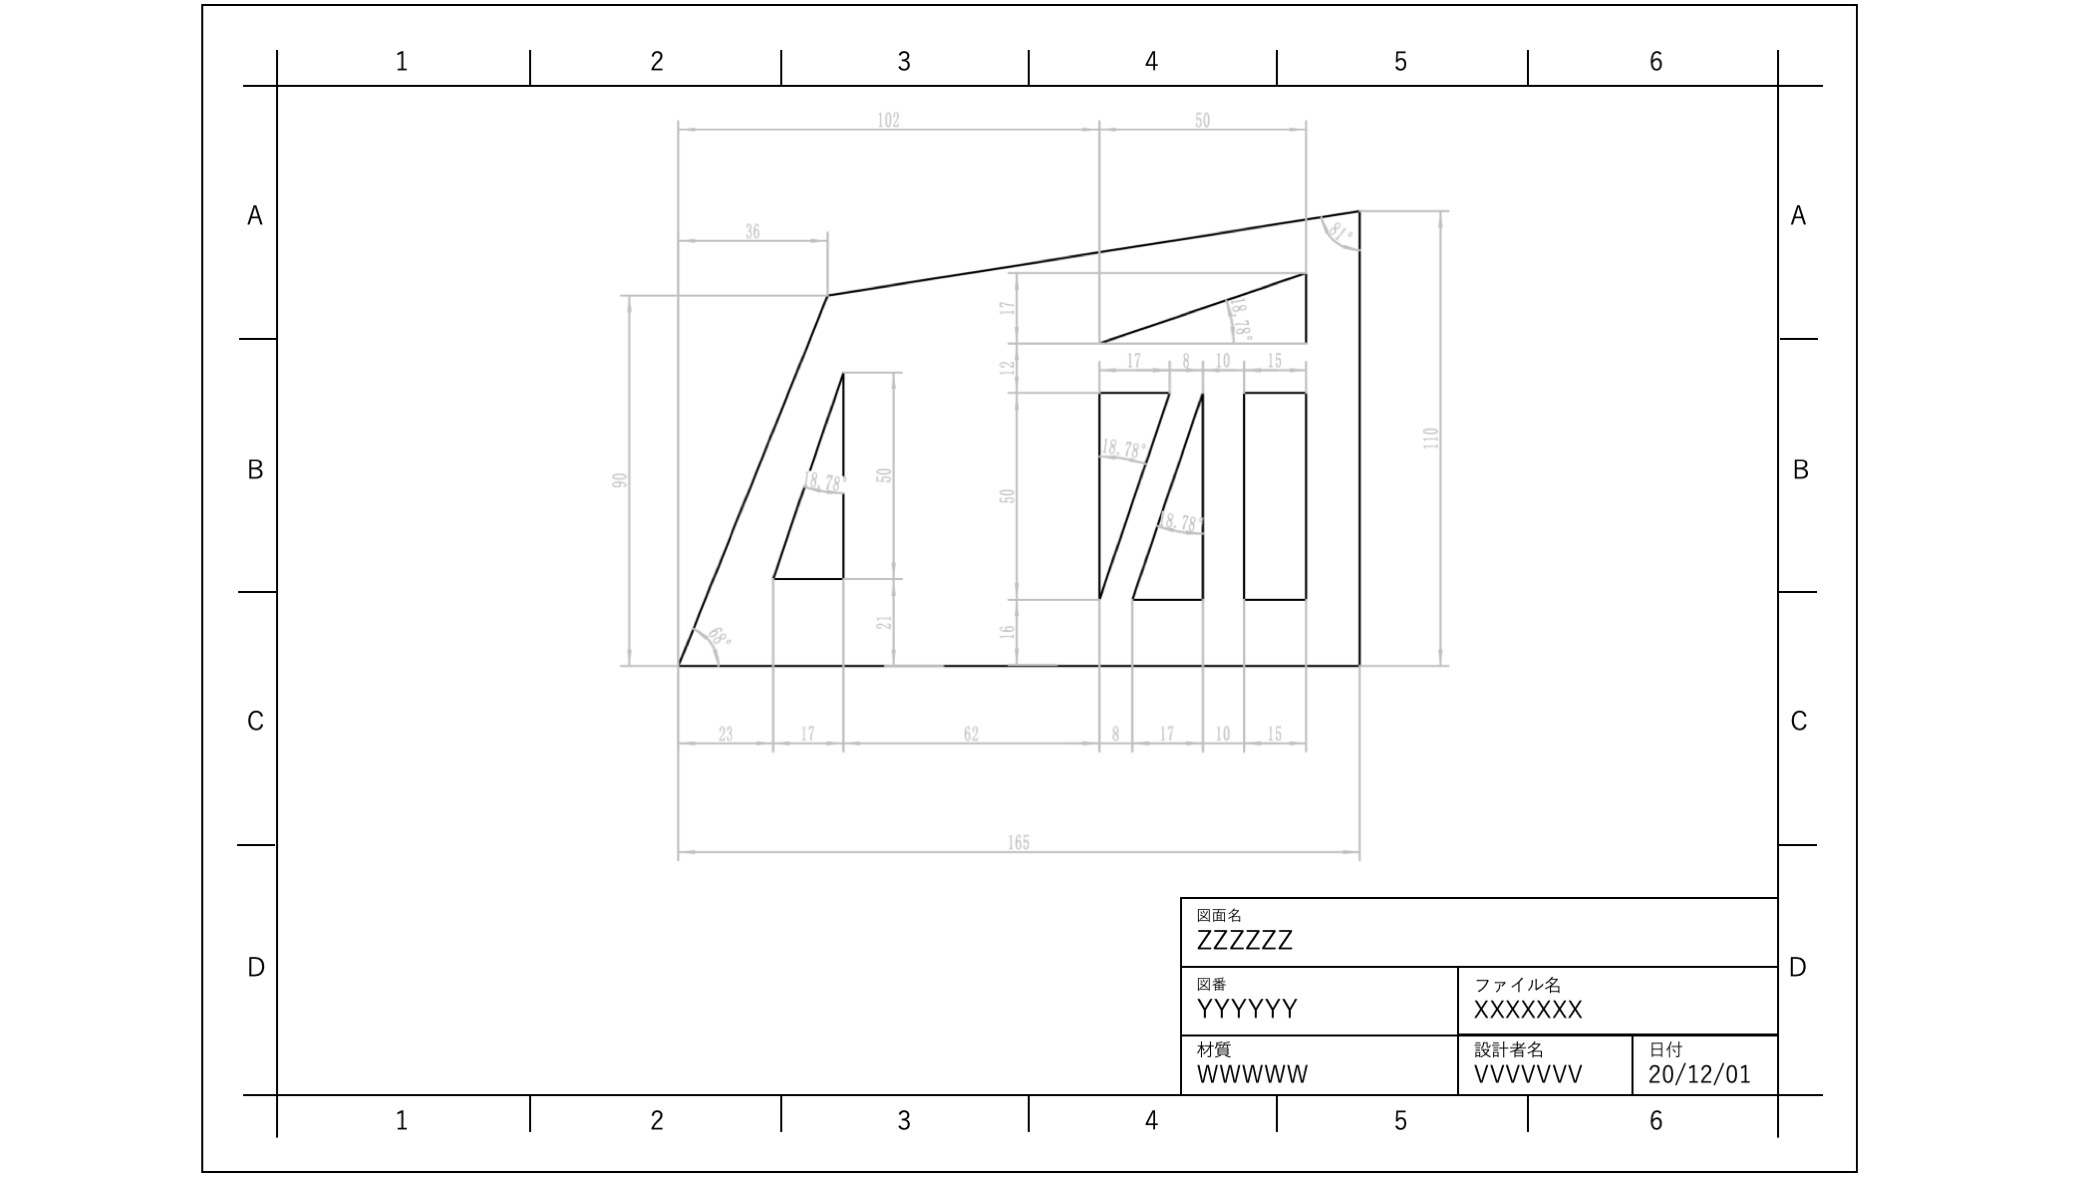rectangle: (1237, 384, 1314, 604)
triangle: (1076, 378, 1175, 598), (1092, 260, 1312, 353), (769, 366, 852, 588), (1126, 386, 1209, 601)
